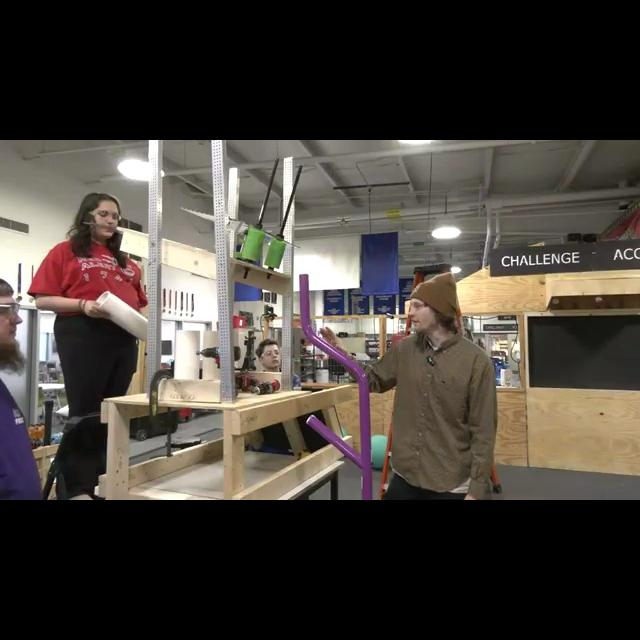CORAL: (92, 289, 148, 341), (176, 331, 200, 381), (202, 330, 218, 380)
